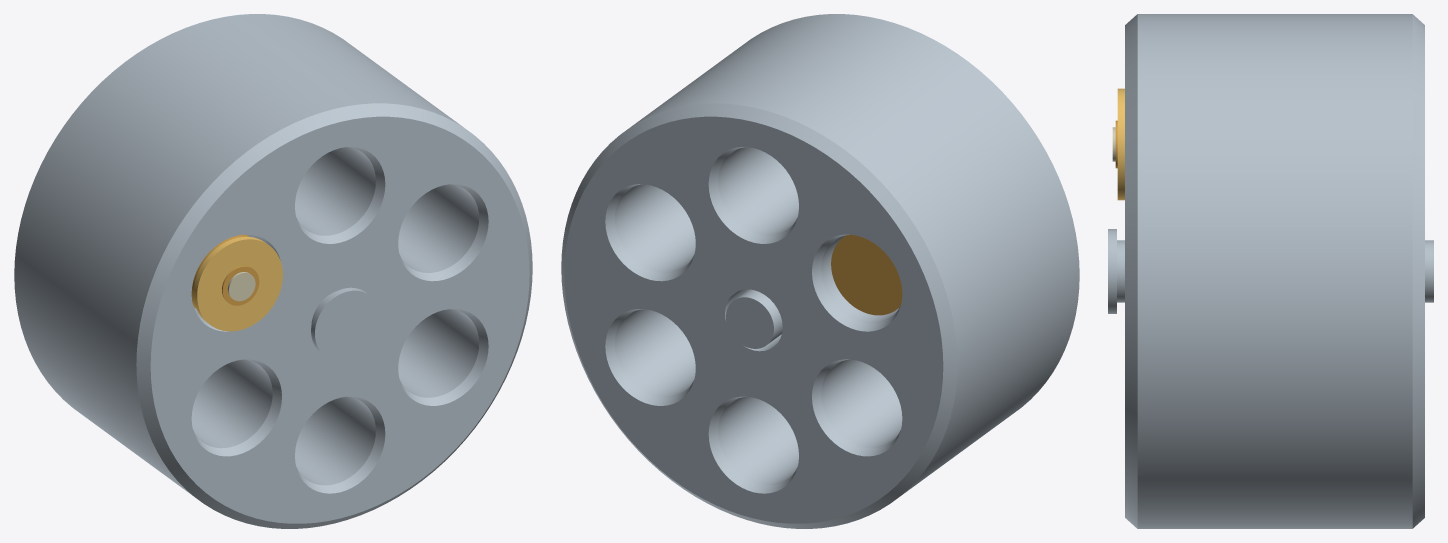
3 renders of one model, left to right at view 1: azimuth 30°, elevation 25°; view 2: azimuth 150°, elevation 25°; view 3: azimuth 270°, elevation 25°, orthographic. The views are drawn at different scales.
Parts seen in each view (by area): view 1: SixBoreSteelDrum, CaseRim, EjectorCap, Primer; view 2: SixBoreSteelDrum, BrassCase, EjectorHub; view 3: SixBoreSteelDrum, EjectorHub, CaseRim, EjectorCap.
Part boxes in pixels (x1,y1,x2,y2): SixBoreSteelDrum: [14, 14, 532, 528]; CaseRim: [193, 236, 282, 331]; EjectorCap: [311, 287, 380, 360]; Primer: [227, 272, 255, 301]; SixBoreSteelDrum: [561, 14, 1079, 528]; BrassCase: [831, 234, 902, 315]; EjectorHub: [726, 289, 782, 348]; SixBoreSteelDrum: [1125, 14, 1424, 528]; EjectorHub: [1117, 240, 1433, 302]; CaseRim: [1117, 88, 1124, 200]; EjectorCap: [1108, 229, 1116, 313].
Size of the model in its own units: 2.06 by 2.06 by 1.3.
